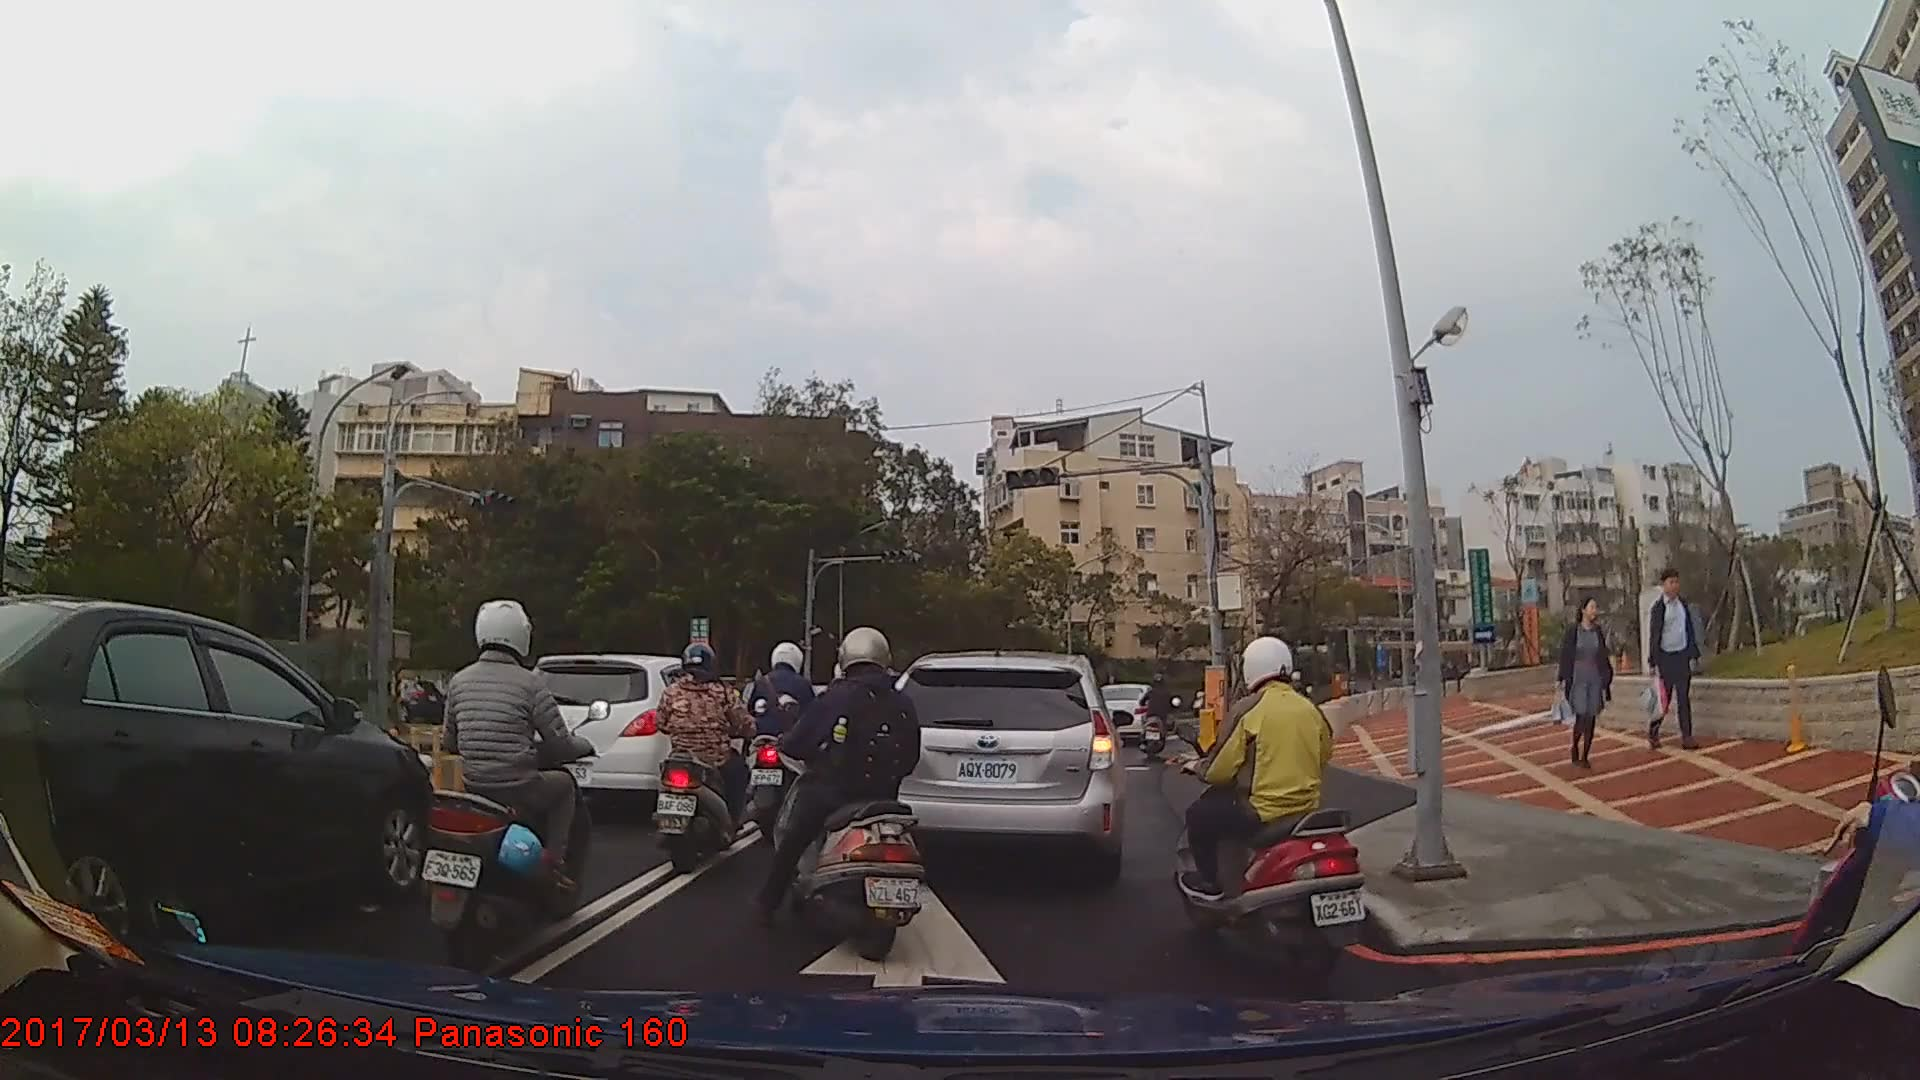pedestrian: (1547, 598, 1613, 771), (1645, 572, 1706, 753)
rider: (1170, 639, 1374, 982), (416, 600, 600, 962), (768, 628, 929, 967), (649, 645, 756, 876), (739, 637, 830, 843), (1138, 672, 1176, 759)
vehicle: (0, 594, 439, 952), (862, 650, 1123, 883), (508, 653, 757, 819), (367, 677, 441, 723)
